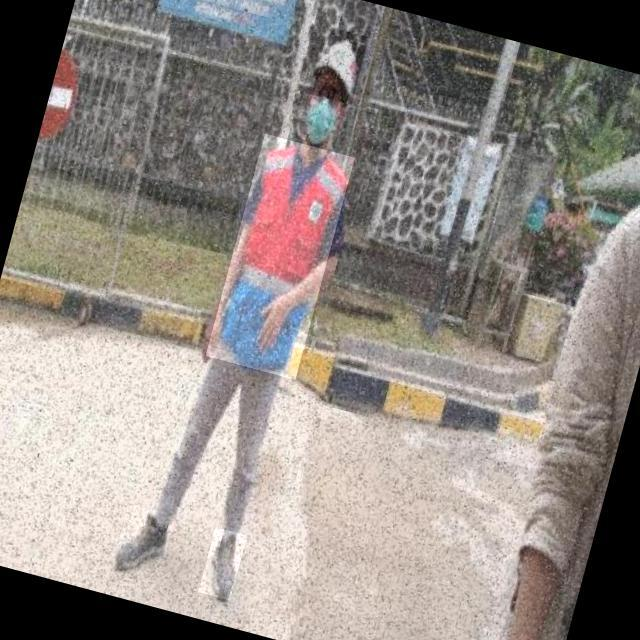Helmet: (308, 26, 370, 105)
Person: (103, 14, 382, 613)
Safety Boot: (112, 503, 175, 578), (198, 528, 247, 602)
Safety Vest: (205, 134, 354, 380)
bare-arms: (248, 283, 299, 361), (205, 286, 230, 363)
